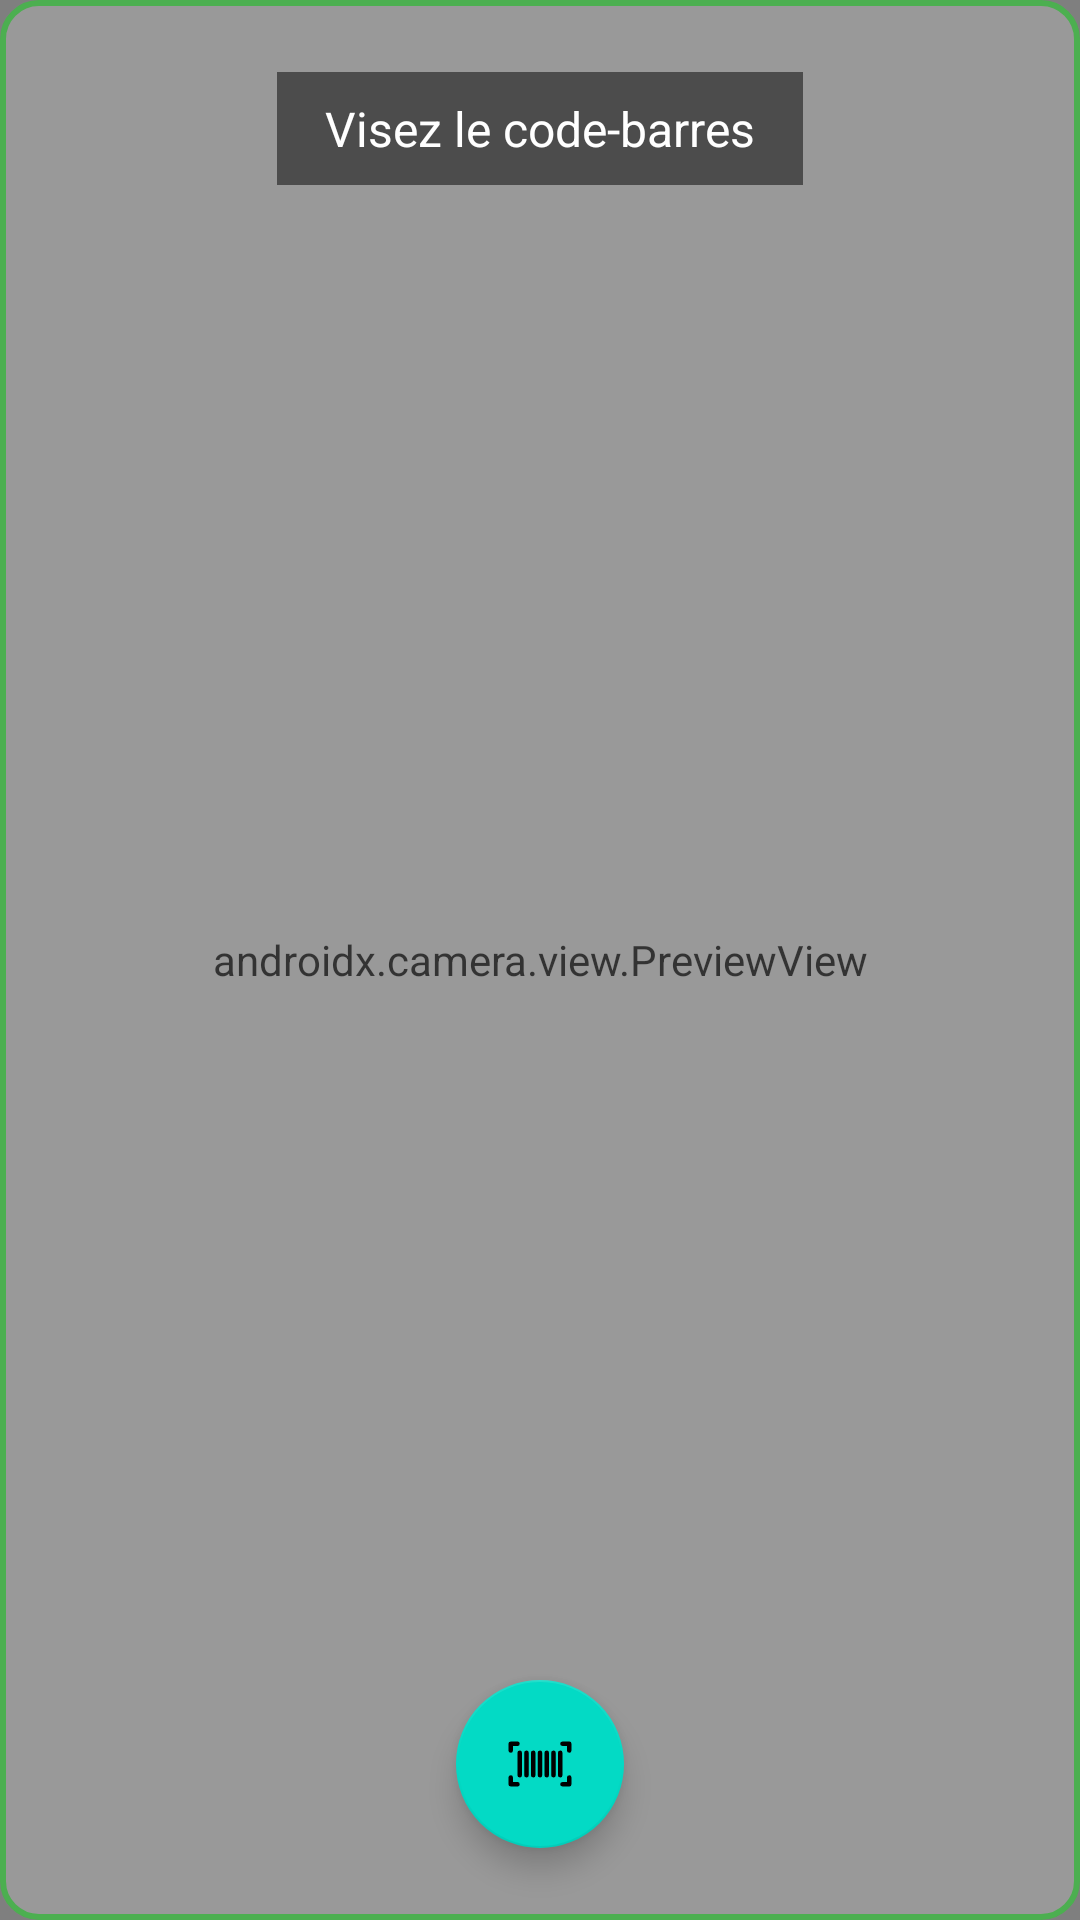

Icons on this 1080x1920 Android screen, each with the point to tap as (x=x, y=y):
scanner: (x=540, y=1764)
